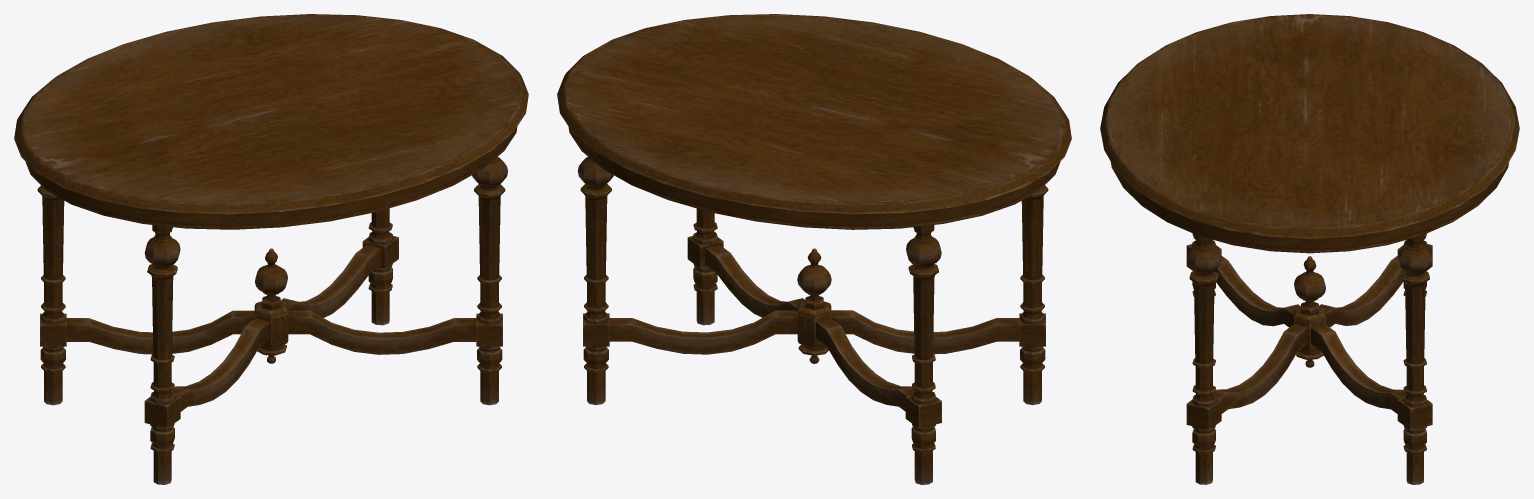
File: table-dining-rect.glb
3 renders of one model, left to right at view 1: azimuth 30°, elevation 25°; view 2: azimuth 150°, elevation 25°; view 3: azimuth 270°, elevation 25°, orthographic. The views are drawn at different scales.
Visible parts, largest first — view 1: table-dining-rect; view 2: table-dining-rect; view 3: table-dining-rect.
Part boxes in pixels (left/top/right/bottom): table-dining-rect: left=14, top=14, right=528, bottom=484; table-dining-rect: left=557, top=14, right=1071, bottom=484; table-dining-rect: left=1100, top=14, right=1519, bottom=484.
Bounding box in the file's own units: 1.27 × 0.76 × 1.02.
1 material, 1 textured.
